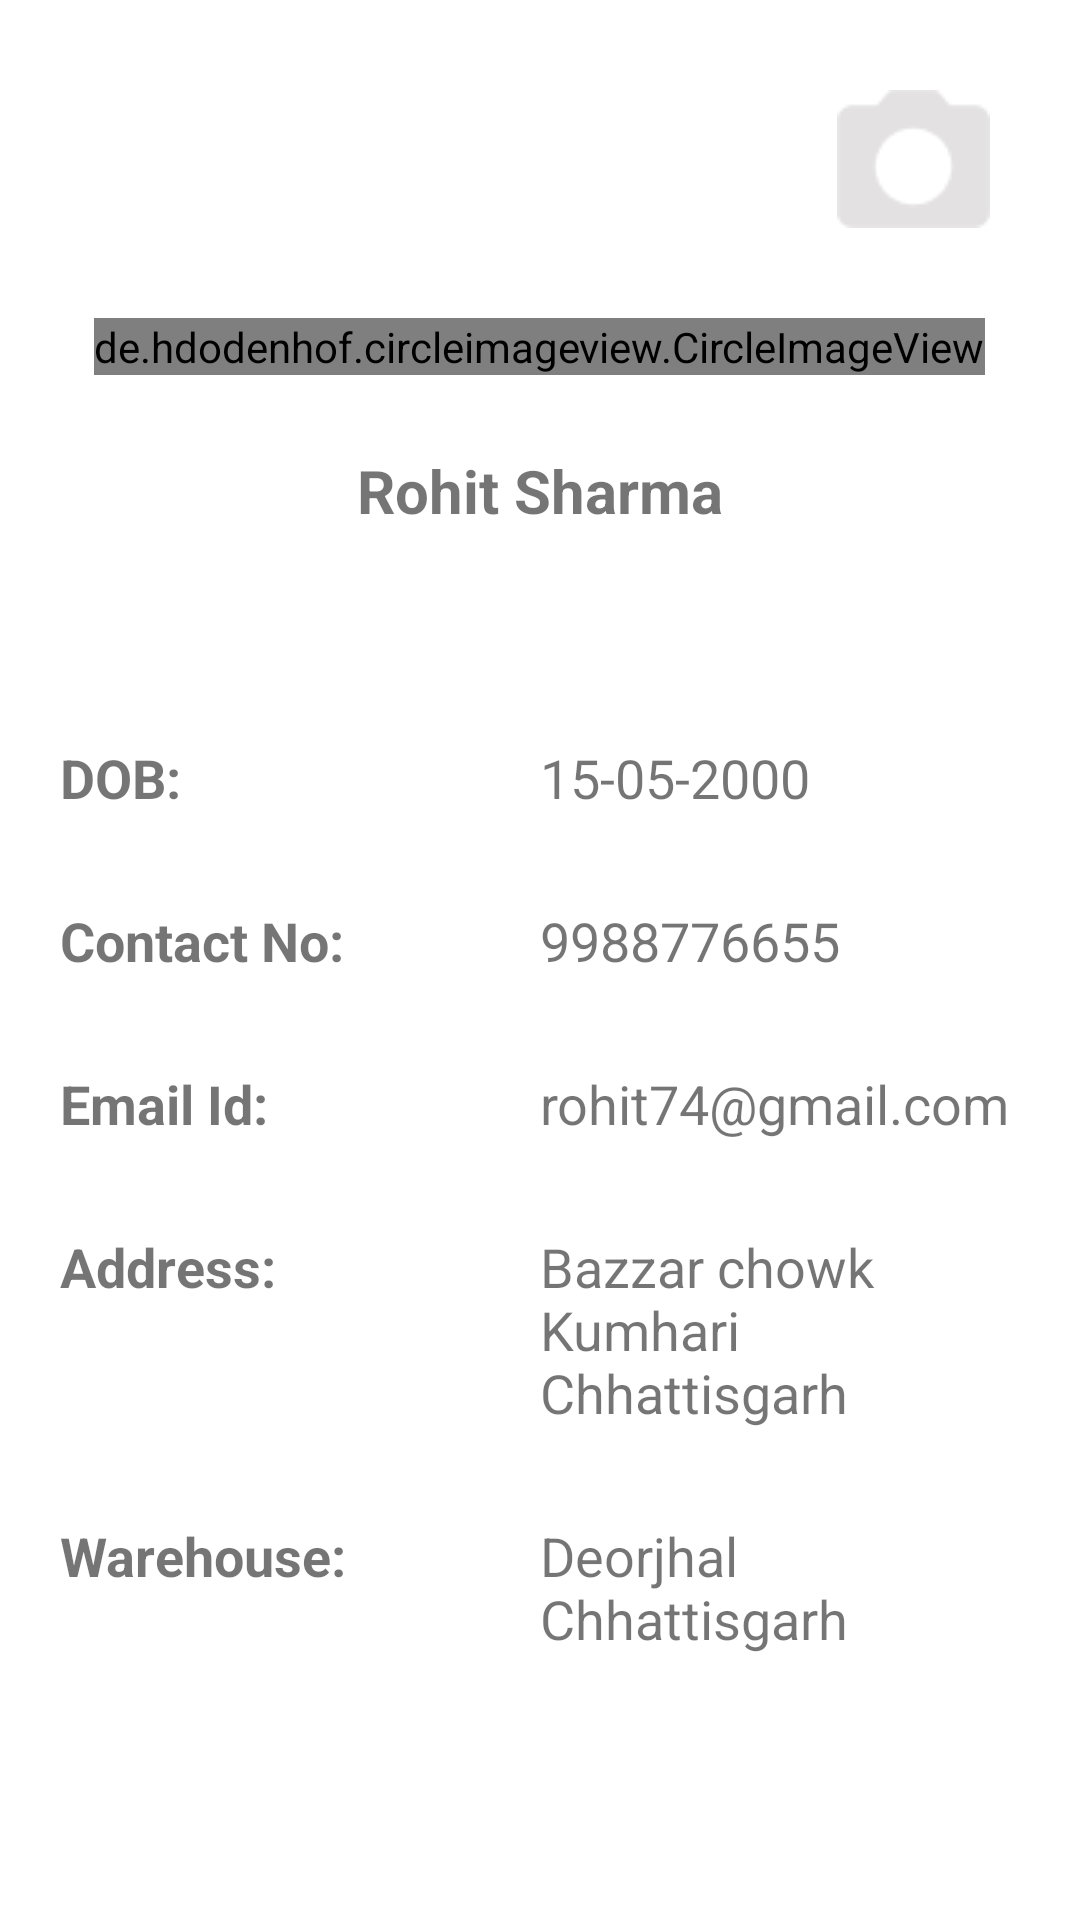

Icons on this 1080*1920 Android screen, each with the point to tap as [x,y]:
camera: [913,159]
